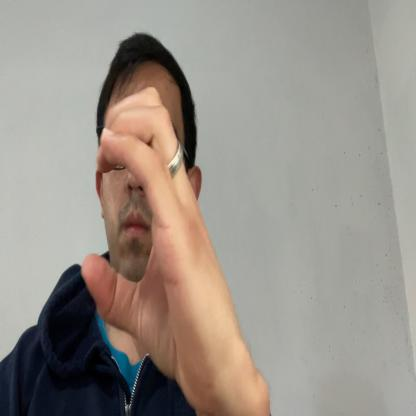C: (81, 86, 235, 404)
